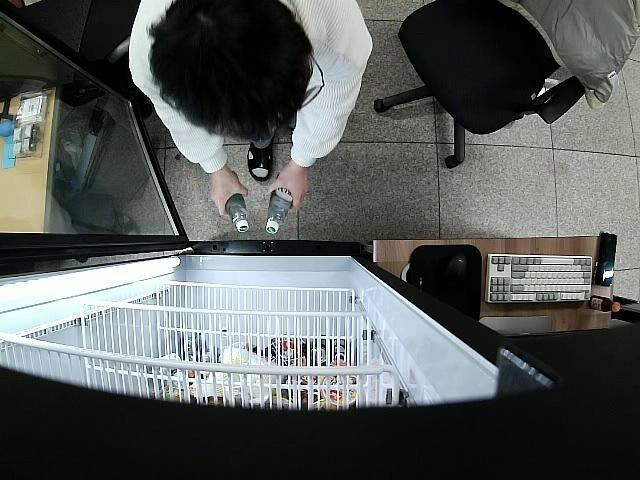18_trevi: (265, 188, 292, 234), (227, 193, 250, 234)
